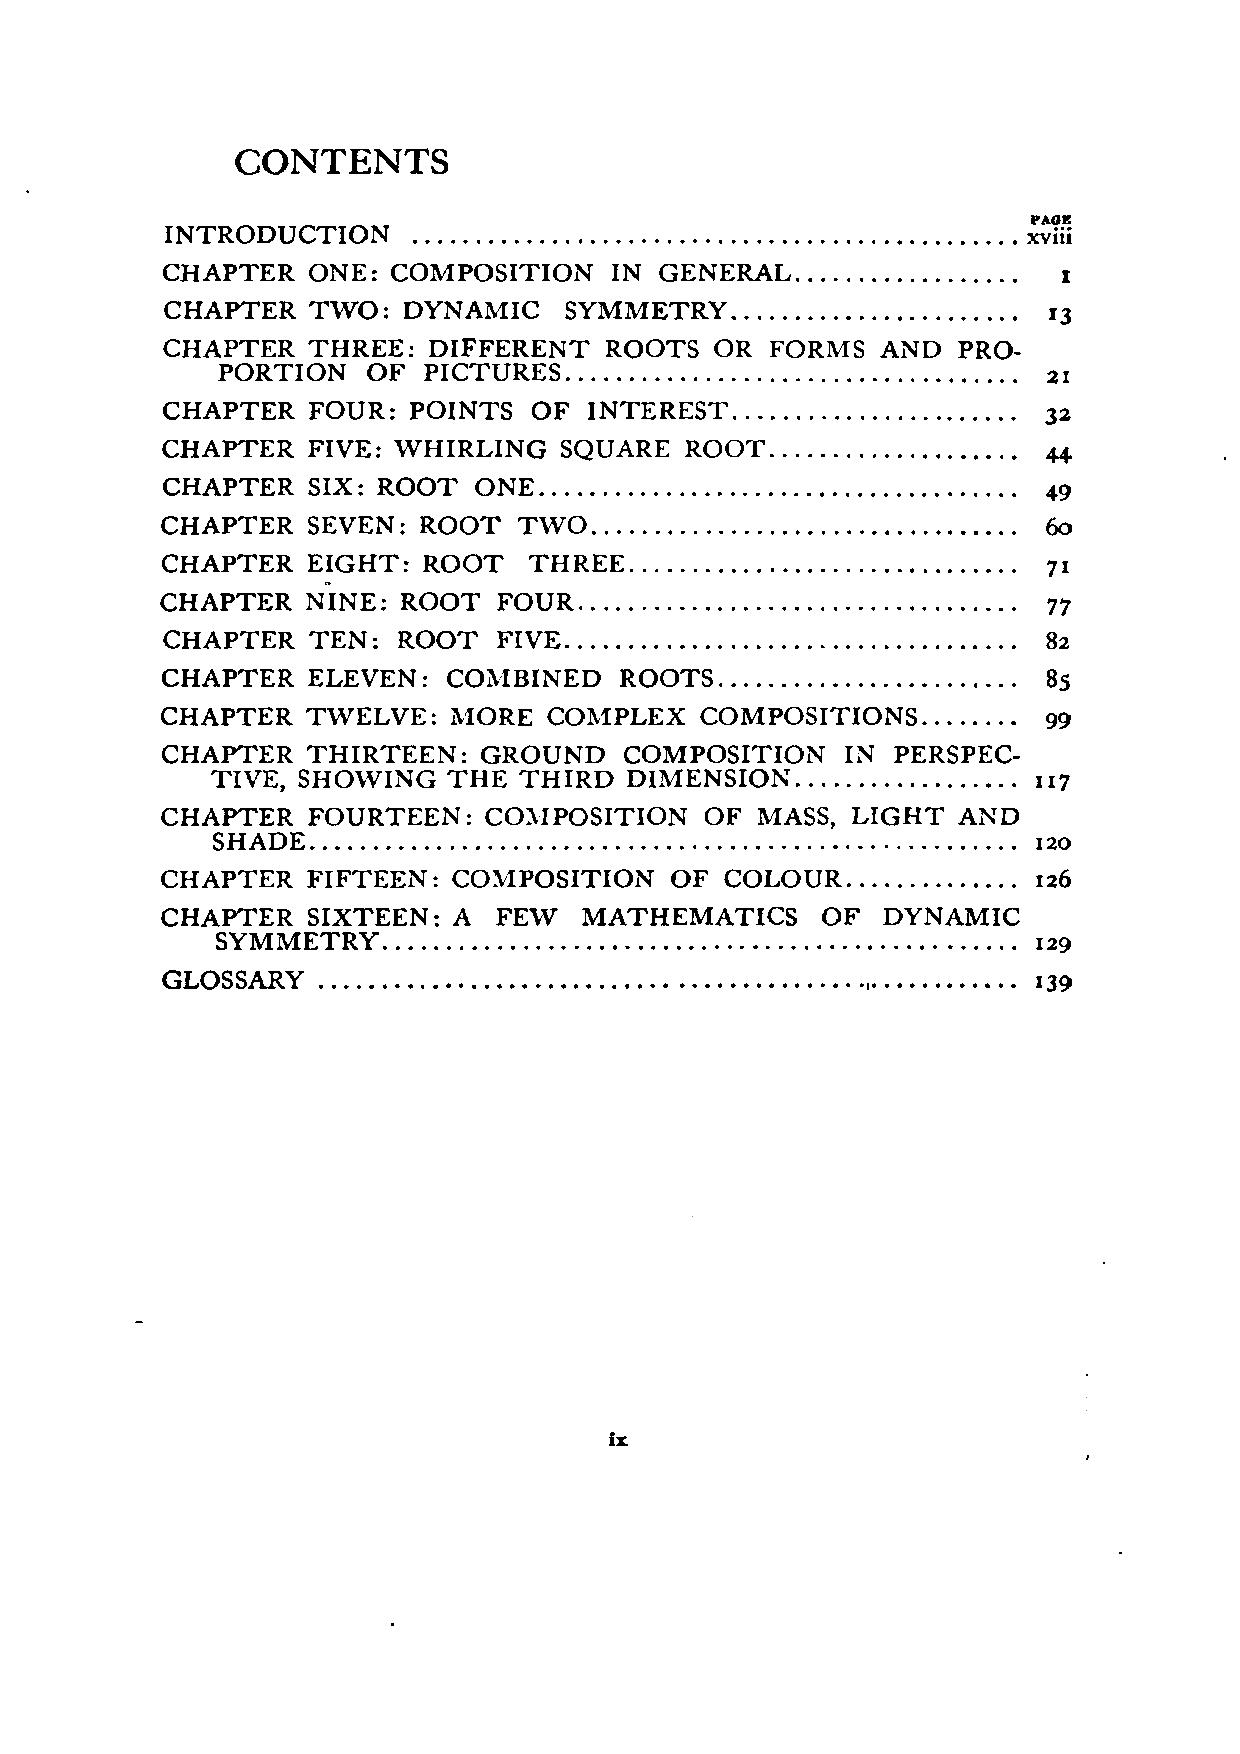TOC_chapter: (157, 902, 1025, 956), (161, 739, 1020, 790), (161, 803, 1019, 852), (162, 334, 1023, 382), (156, 701, 918, 731), (158, 433, 766, 462), (157, 395, 729, 421), (160, 258, 789, 282), (158, 664, 718, 691), (157, 868, 841, 890), (160, 297, 730, 319), (160, 509, 589, 537), (158, 552, 625, 574), (158, 625, 566, 651), (158, 589, 577, 613), (160, 476, 535, 501), (161, 225, 391, 246), (161, 966, 305, 990)
TOC_pagenumber: (1035, 969, 1075, 994), (1024, 228, 1078, 247), (1032, 931, 1074, 956), (1044, 667, 1076, 692), (1041, 556, 1074, 578), (1033, 831, 1070, 851), (1035, 870, 1071, 890), (1045, 514, 1074, 539), (1033, 772, 1071, 790), (1045, 480, 1074, 505), (1045, 364, 1074, 386), (1045, 303, 1071, 327), (1045, 706, 1071, 730), (1045, 404, 1074, 425), (1044, 443, 1071, 464), (1045, 629, 1071, 651), (1043, 599, 1071, 617), (1059, 268, 1074, 287)
chapter: (234, 146, 450, 176)
